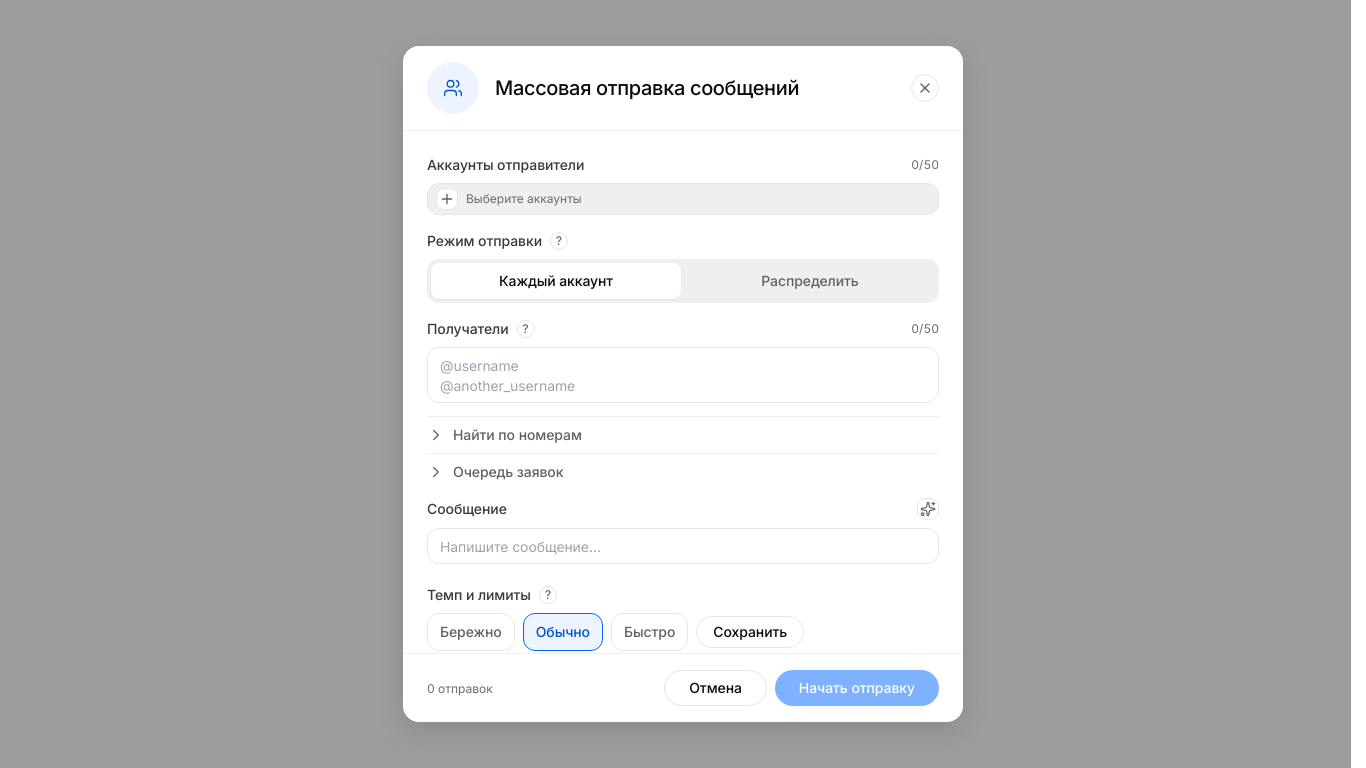
Test: shows a load error and retry in the account picker
Step 1. Click the button named "Добавить аккаунты" → [447, 199], box [436,188,458,210]
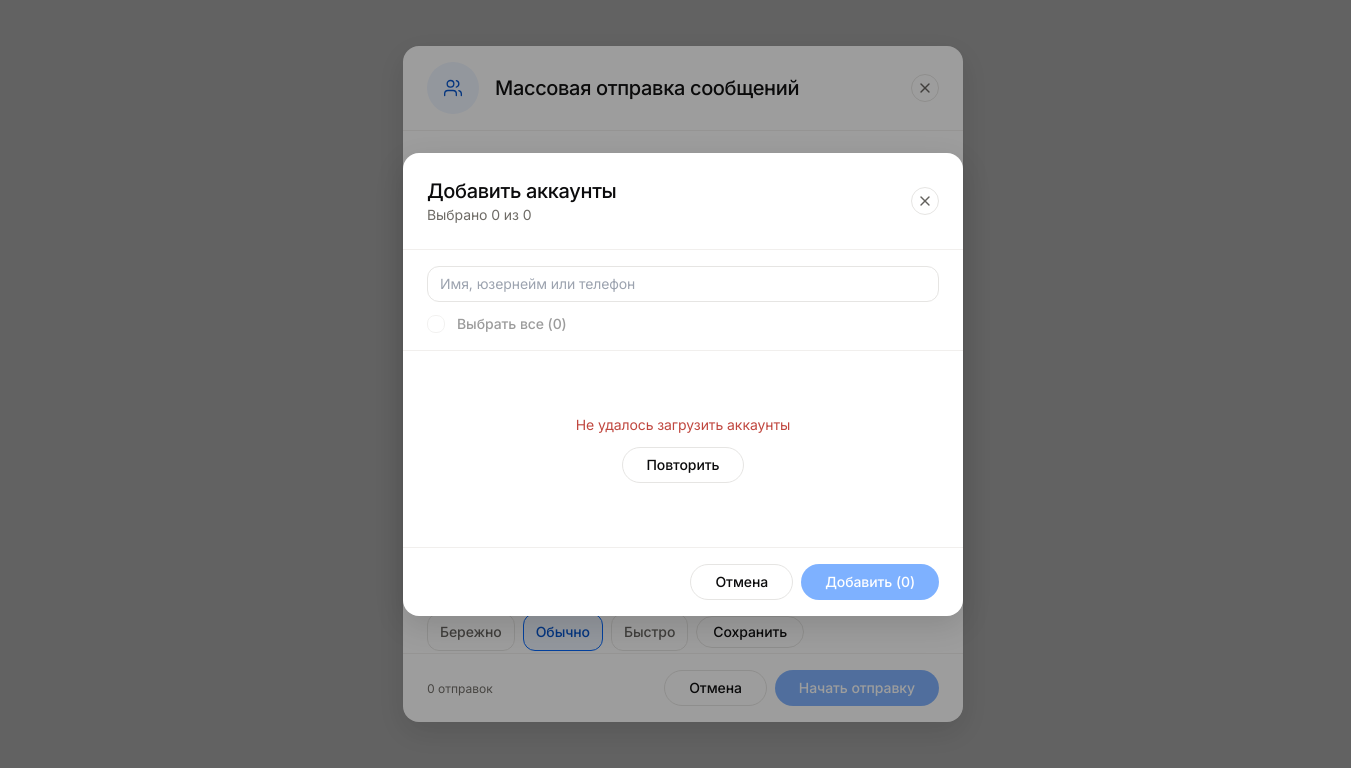
Check: the message reads "Не удалось загрузить аккаунты", box [576,416,790,432]
Check: the button "Повторить" is shown, box [622,446,744,482]
